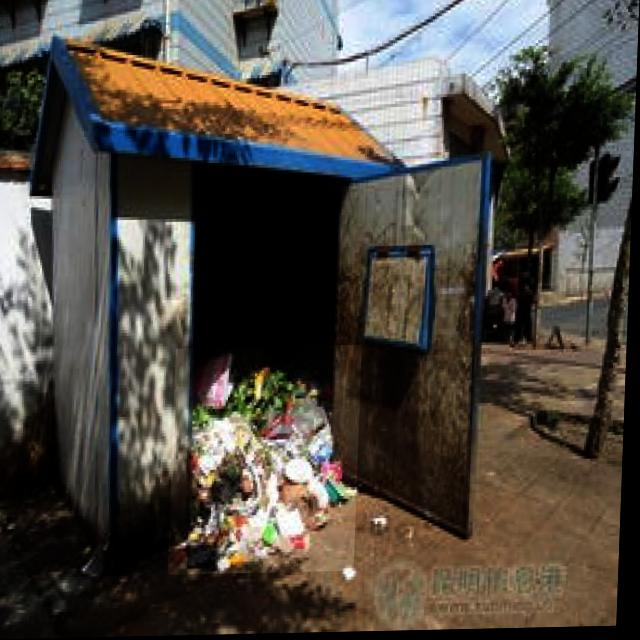garbage: (172, 346, 365, 576)
